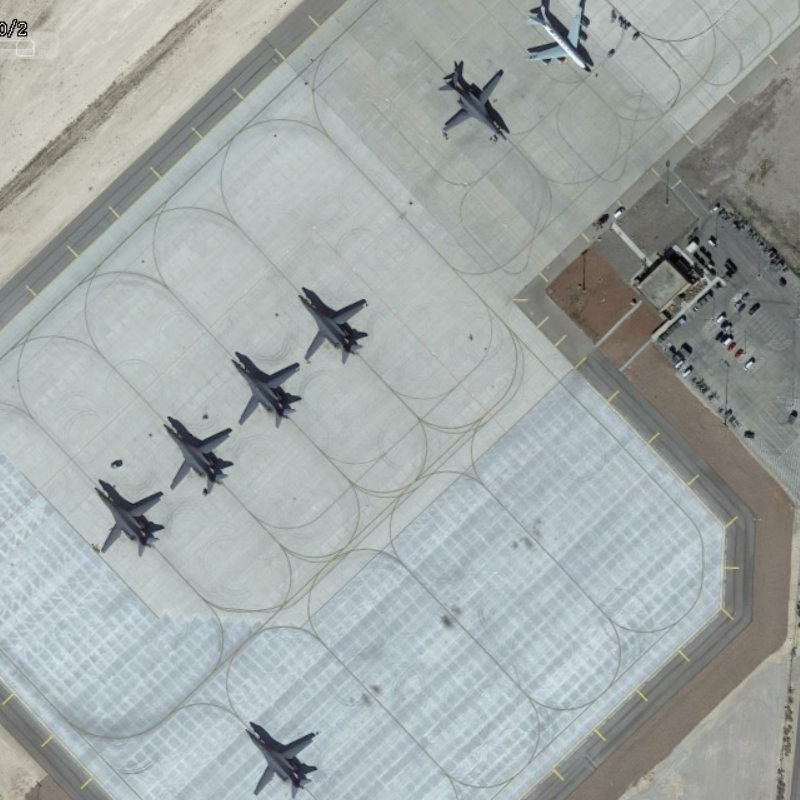A10: (432, 59, 515, 144), (87, 478, 171, 561), (225, 350, 308, 432), (242, 721, 325, 800), (293, 283, 371, 366), (161, 414, 237, 499)
A11: (521, 1, 596, 75)
